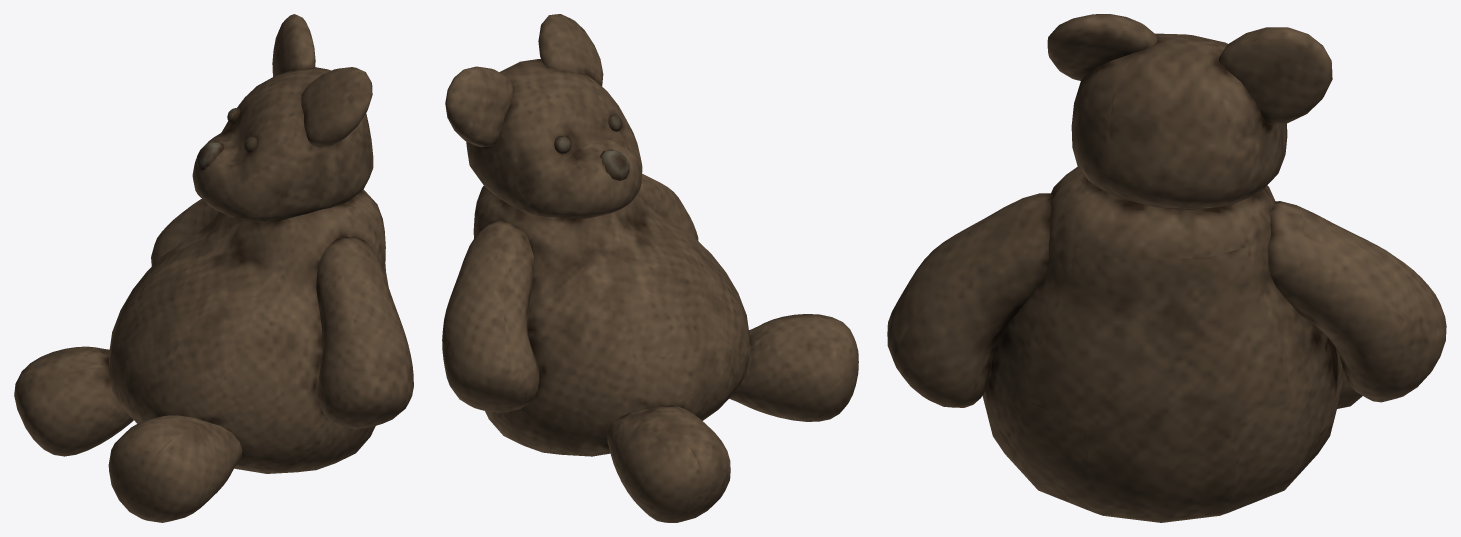
The model's file is SM_TeddyBear_01.fbx.
3 renders of one model, left to right at view 1: azimuth 30°, elevation 25°; view 2: azimuth 150°, elevation 25°; view 3: azimuth 270°, elevation 25°, orthographic. The views are drawn at different scales.
Visible parts, largest first — view 1: SM_TeddyBear_01_LOD0; view 2: SM_TeddyBear_01_LOD0; view 3: SM_TeddyBear_01_LOD0.
Boxes of the visible parts, x1,y1,x2,y2 form: SM_TeddyBear_01_LOD0: (14,14,413,522); SM_TeddyBear_01_LOD0: (442,14,858,522); SM_TeddyBear_01_LOD0: (887,14,1446,522).
Size of the model in its own units: 23.14 by 26.62 by 27.61.
Materials: 1 (1 with a texture image).
